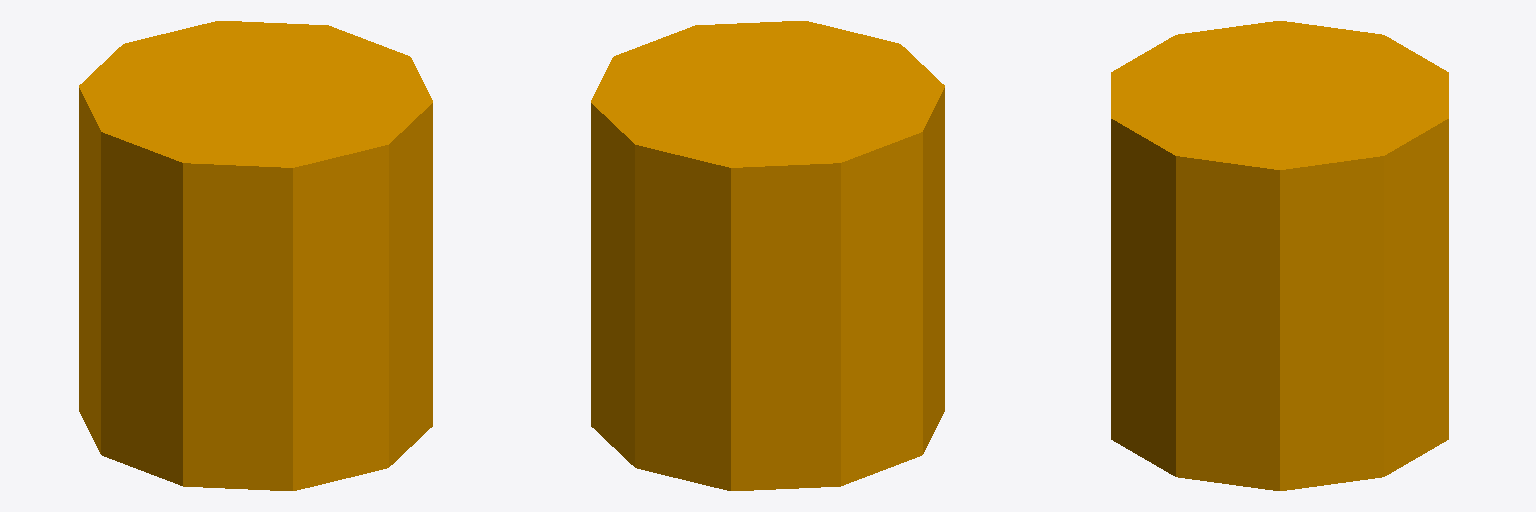
The robot description file, URDF, robot "object":
<?xml version="1.0"?>
<robot name="object">
  <link name="object">
    <visual>
      <origin xyz="0 0 0"/>
      <geometry>
        <mesh filename="meshes/set2/cylinder_3.obj" scale=".03 .03 .03"/>
      </geometry>
    </visual>
    <collision>
  <origin xyz="0 0 0"/>
  <geometry>
    <mesh filename="meshes/set2/cylinder_3_0decompose.obj" scale=".03 .03 .03"/>
  </geometry>
</collision>
    <inertial>
      <density value="1000.0"/>
    </inertial>
  </link>
</robot>

--- What the picture shows (computed from the rendered views, not written in the file) ---
Views: 3 orthographic renders of the robot side by side, from view 1: azimuth 30°, elevation 25°; view 2: azimuth 150°, elevation 25°; view 3: azimuth 270°, elevation 25°.
Model object with 1 links and 0 joints (none), rooted at object, posed all joints at 0.
Links seen in each view (by area): view 1: object; view 2: object; view 3: object.
Boxes of the visible links, x1=… form: object: x1=79, y1=21, x2=432, y2=490; object: x1=591, y1=21, x2=944, y2=490; object: x1=1111, y1=21, x2=1448, y2=490.
Bounding box of the posed robot: 0.06 × 0.0571 × 0.06 m (x, y, z).
1 mesh visuals loaded from 1 distinct referenced files (1 OBJ).
